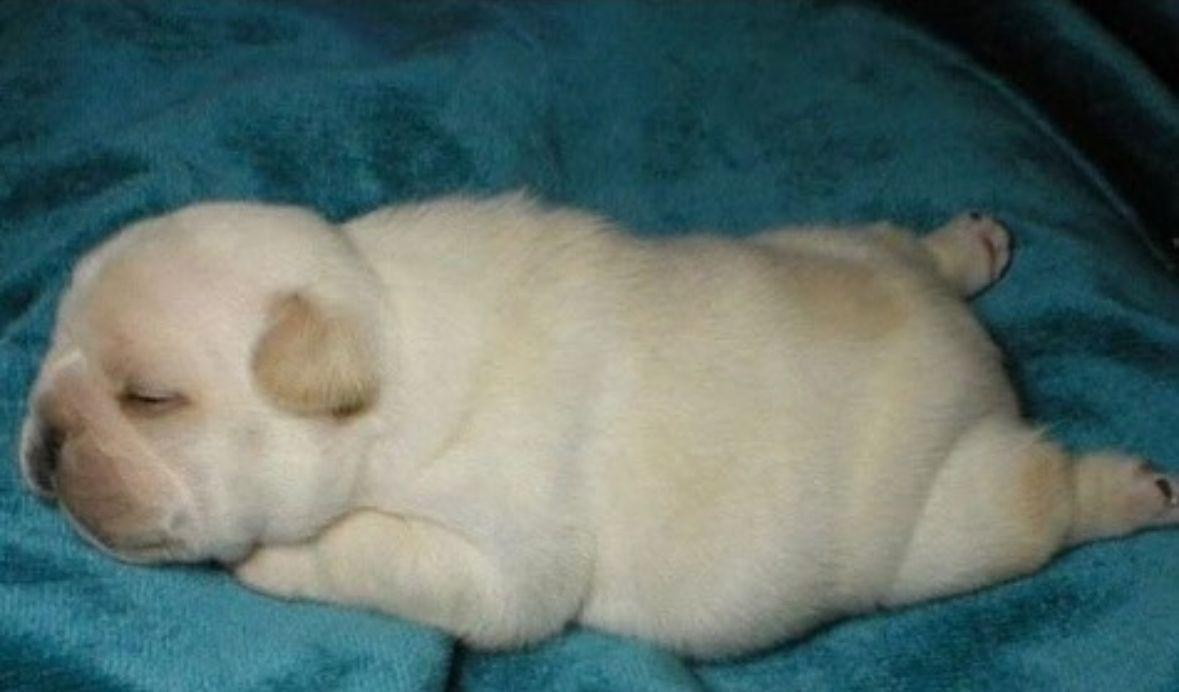puppy-dog: (18, 181, 1179, 663)
